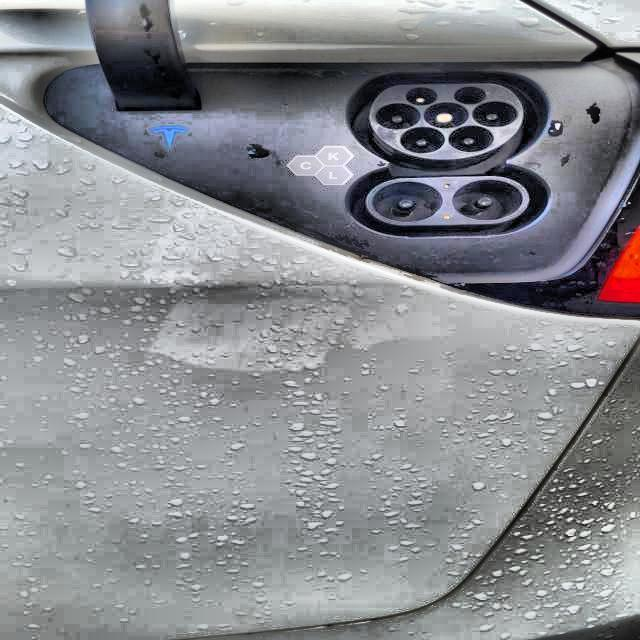inlet: (369, 84, 524, 160)
inlet-above-left: (406, 87, 438, 106)
inlet-above-right: (454, 86, 487, 104)
inlet-below-left: (400, 127, 445, 154)
inlet-below-right: (448, 126, 494, 152)
inlet-center: (424, 102, 469, 128)
inlet-center-left: (376, 103, 420, 130)
inlet-center-right: (473, 101, 518, 127)
